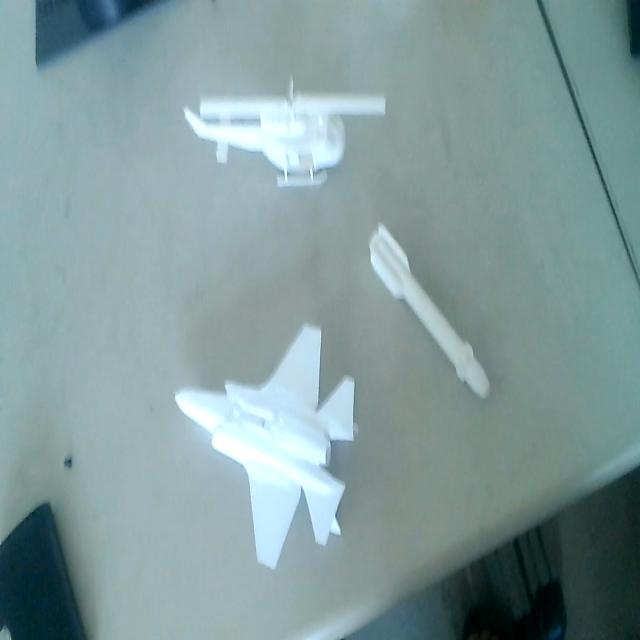Helicopter: (178, 77, 388, 190)
Jet: (173, 322, 358, 568)
Rocket: (365, 215, 492, 402)
